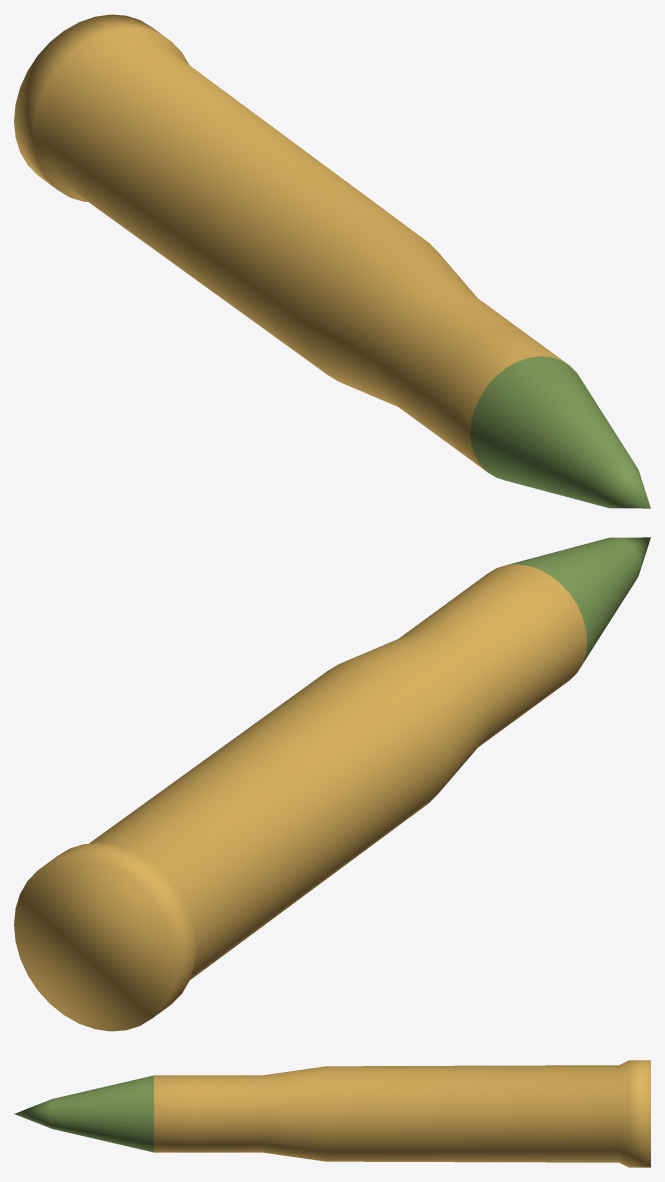
The model's file is rotor_light_round_display.glb.
3 renders of one model, top to bottom at view 1: azimuth 30°, elevation 25°; view 2: azimuth 150°, elevation 25°; view 3: azimuth 270°, elevation 25°, orthographic. The views are drawn at different scales.
Visible parts, largest first — view 1: AMMO_MESH.003; view 2: AMMO_MESH.003; view 3: AMMO_MESH.003.
Boxes of the visible parts, x1,y1,x2,y2 form: AMMO_MESH.003: (14,14,650,508); AMMO_MESH.003: (14,537,650,1031); AMMO_MESH.003: (14,1060,650,1167).
Size of the model in its own units: 0.0096 by 0.0096 by 0.057.
